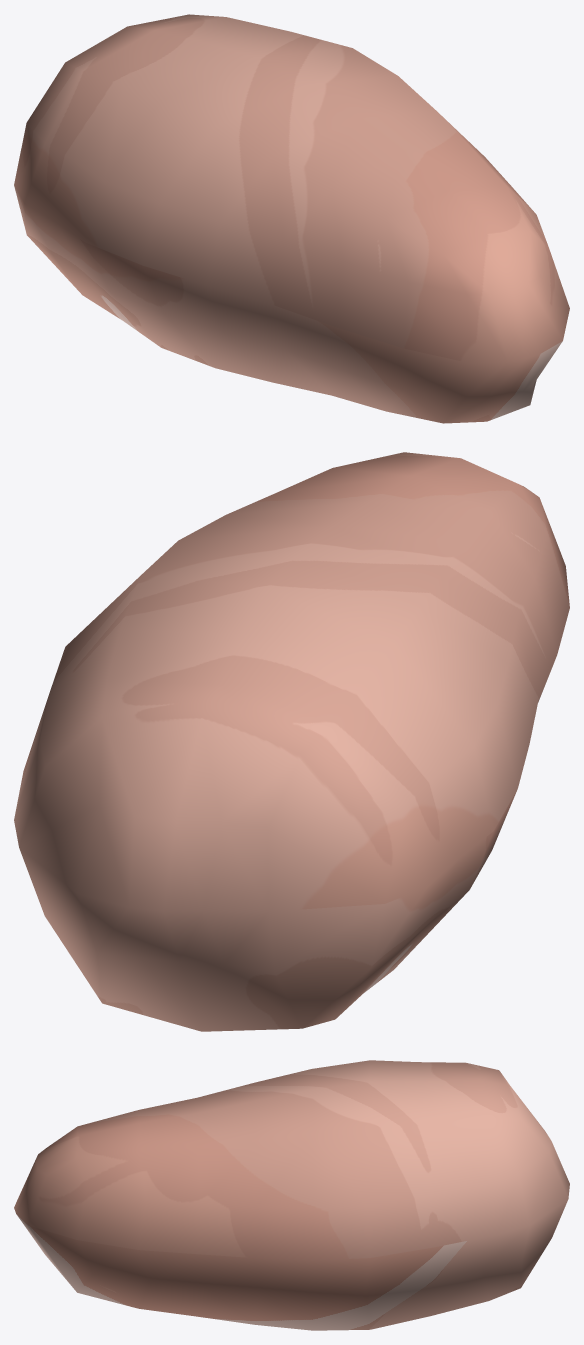
The model's file is chicken-breast-whole.FBX.
3 renders of one model, top to bottom at view 1: azimuth 30°, elevation 25°; view 2: azimuth 150°, elevation 25°; view 3: azimuth 270°, elevation 25°, orthographic. The views are drawn at different scales.
Visible parts, largest first — view 1: Chicken Breast; view 2: Chicken Breast; view 3: Chicken Breast.
Part boxes in pixels (<box>): Chicken Breast: <box>14,14,569,423</box>; Chicken Breast: <box>14,452,569,1031</box>; Chicken Breast: <box>14,1060,569,1330</box>.
Size of the model in its own units: 60.25 by 46.32 by 105.
